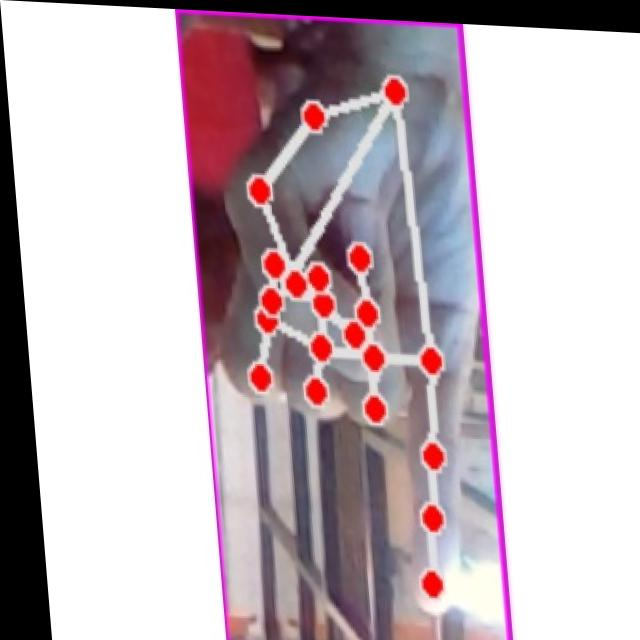I: (194, 39, 493, 622)
